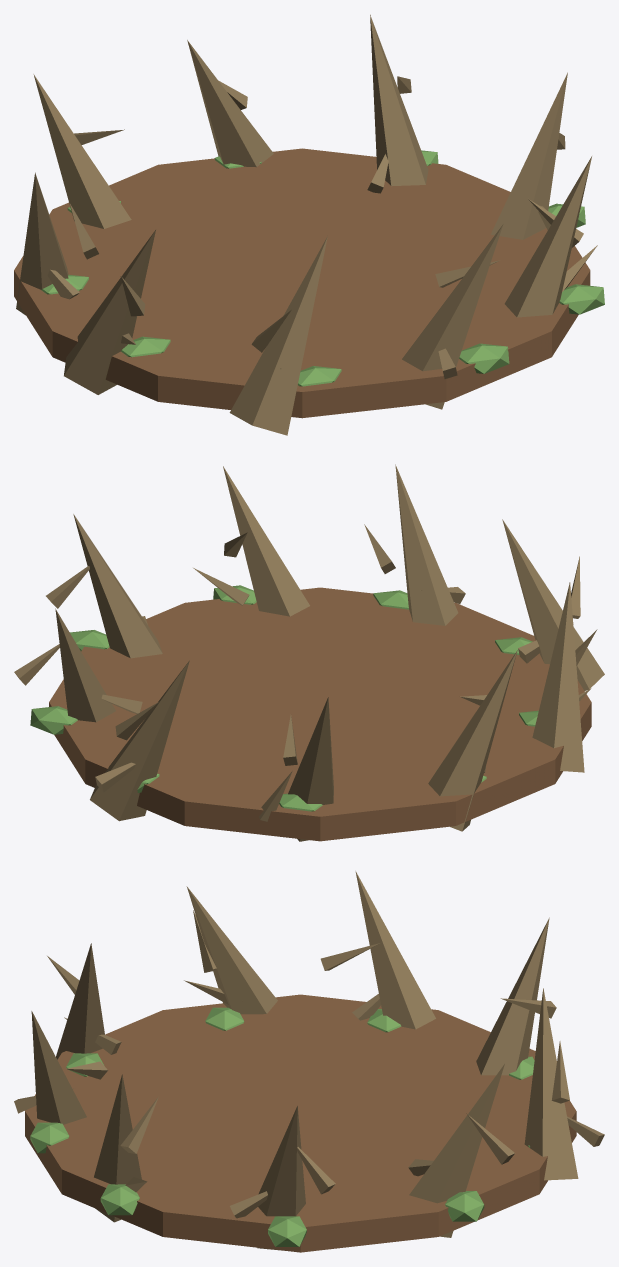
The model's file is ThornTrap.fbx.
3 views of the same model, one above another, from view 1: azimuth 30°, elevation 25°; view 2: azimuth 150°, elevation 25°; view 3: azimuth 270°, elevation 25° (orthographic). The views are drawn at different scales.
Visible parts, largest first — view 1: W_ThornTrap; view 2: W_ThornTrap; view 3: W_ThornTrap.
Part boxes in pixels (bbox=[...]): W_ThornTrap: bbox=[14, 14, 604, 435]; W_ThornTrap: bbox=[14, 464, 604, 841]; W_ThornTrap: bbox=[14, 871, 604, 1252].
Size of the model in its own units: 1.29 by 0.4106 by 1.29.
